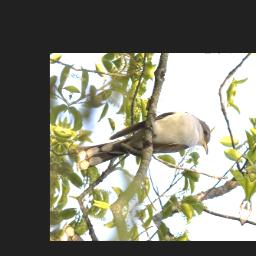Cuckoo: (74, 88, 216, 201)
